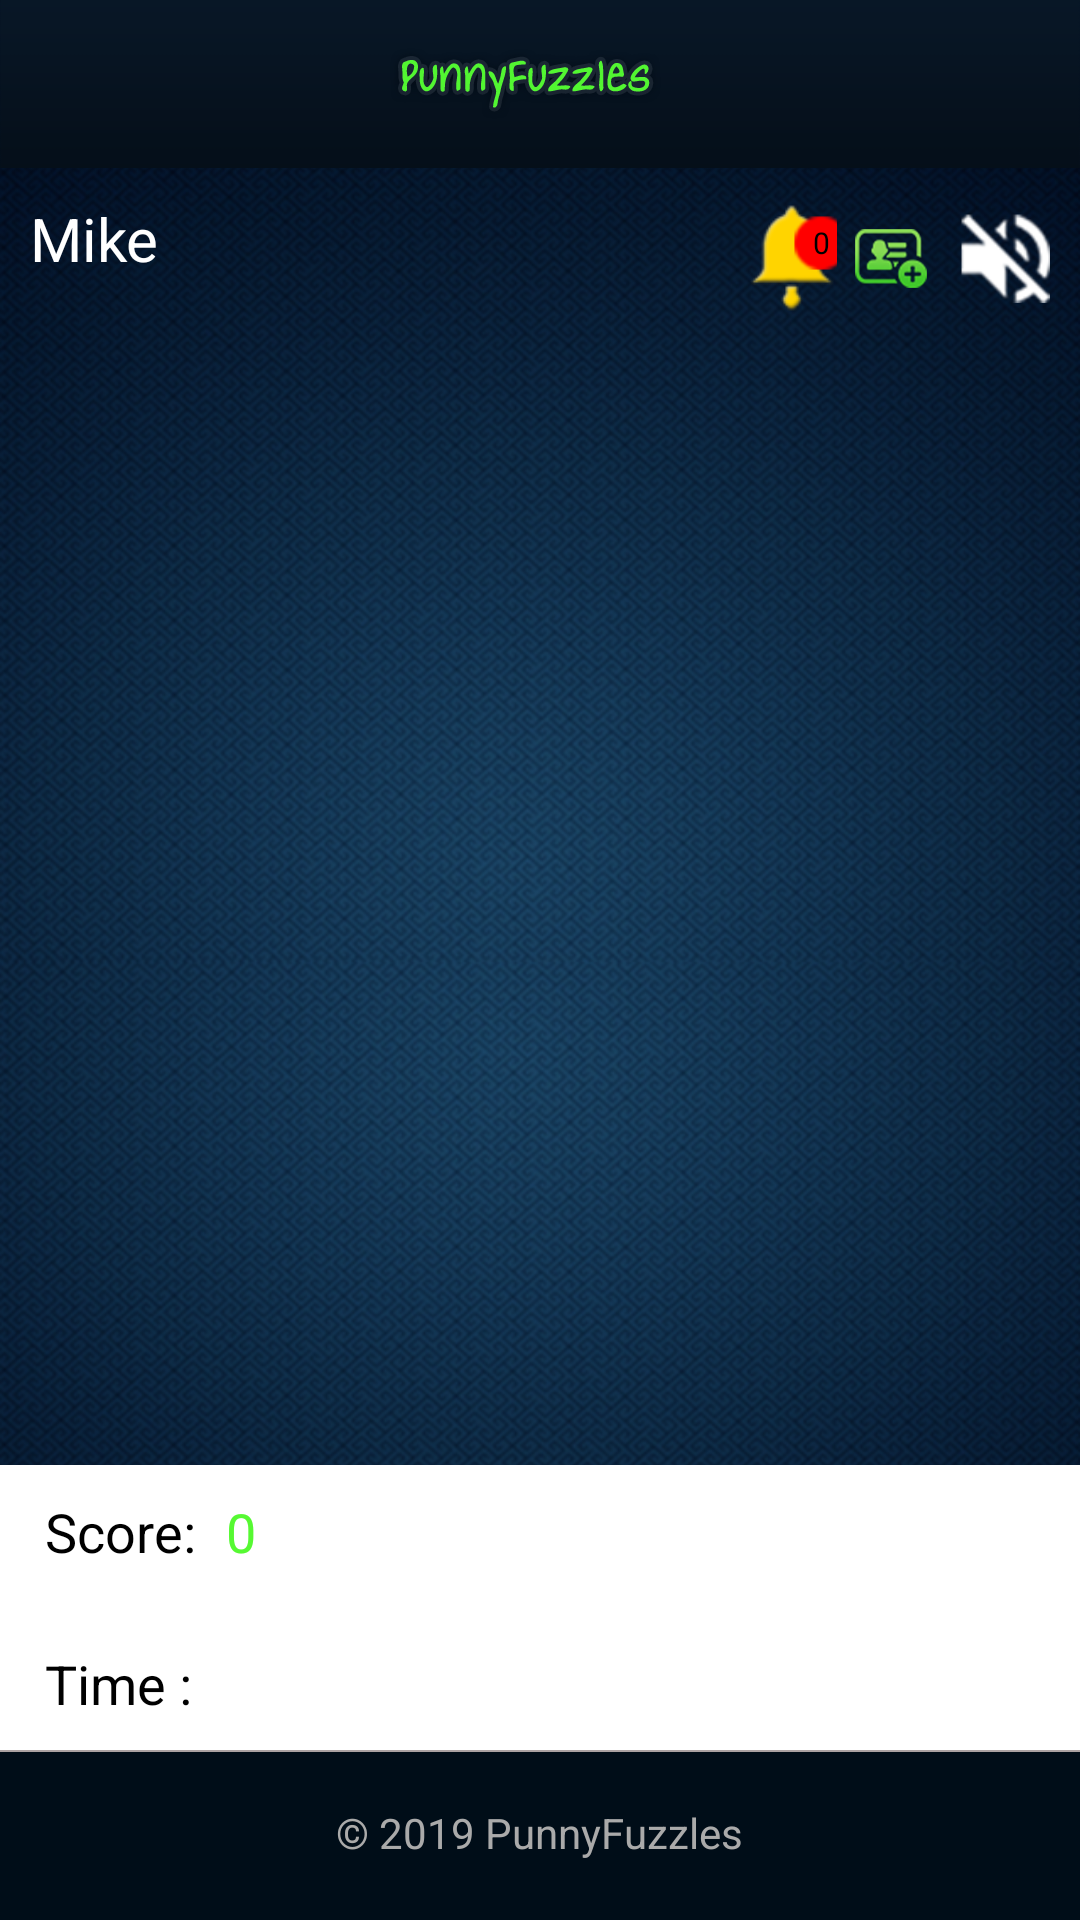

Named icons in this screenshot (1080×1920) and their bounding boxes, (x1, y1, x2, y2):
invite: (855, 229, 927, 288)
volume off indicatornew: (961, 214, 1050, 303)
